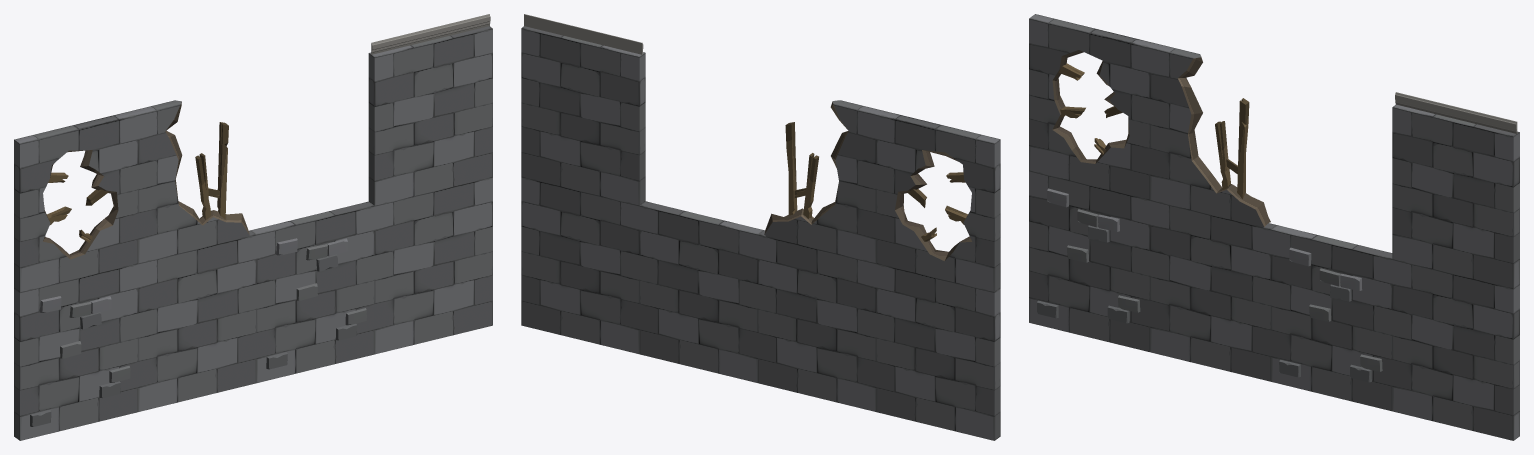
The model's file is crypt_wall_d.gltf.
3 views of the same model, side by side, from view 1: azimuth 30°, elevation 25°; view 2: azimuth 150°, elevation 25°; view 3: azimuth 330°, elevation 25° (orthographic). The views are drawn at different scales.
Parts seen in each view (by area): view 1: crypt_wall_d; view 2: crypt_wall_d; view 3: crypt_wall_d.
Boxes of the visible parts, bbox=[...] form: crypt_wall_d: bbox=[14, 14, 492, 440]; crypt_wall_d: bbox=[521, 14, 1000, 440]; crypt_wall_d: bbox=[1029, 14, 1519, 440].
Size of the model in its own units: 10 by 6.24 by 0.333.
Materials: 2 (2 with a texture image).
